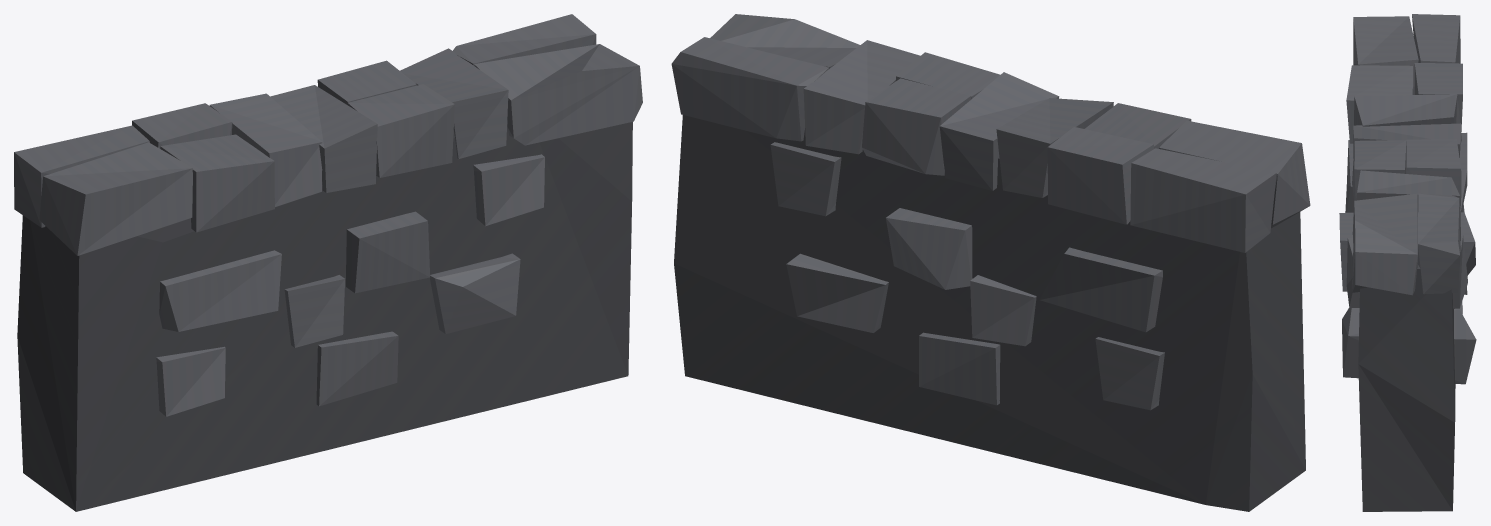
The model's file is Wall_1A_LOD1.fbx.
3 renders of one model, left to right at view 1: azimuth 30°, elevation 25°; view 2: azimuth 150°, elevation 25°; view 3: azimuth 270°, elevation 25°, orthographic. The views are drawn at different scales.
Parts seen in each view (by area): view 1: polySurface10080; view 2: polySurface10080; view 3: polySurface10080.
Boxes of the visible parts, <box> form: polySurface10080: <box>14,14,642,511</box>; polySurface10080: <box>671,14,1310,511</box>; polySurface10080: <box>1339,14,1476,511</box>.
Bounding box in the file's own units: 412 × 222 × 102.
